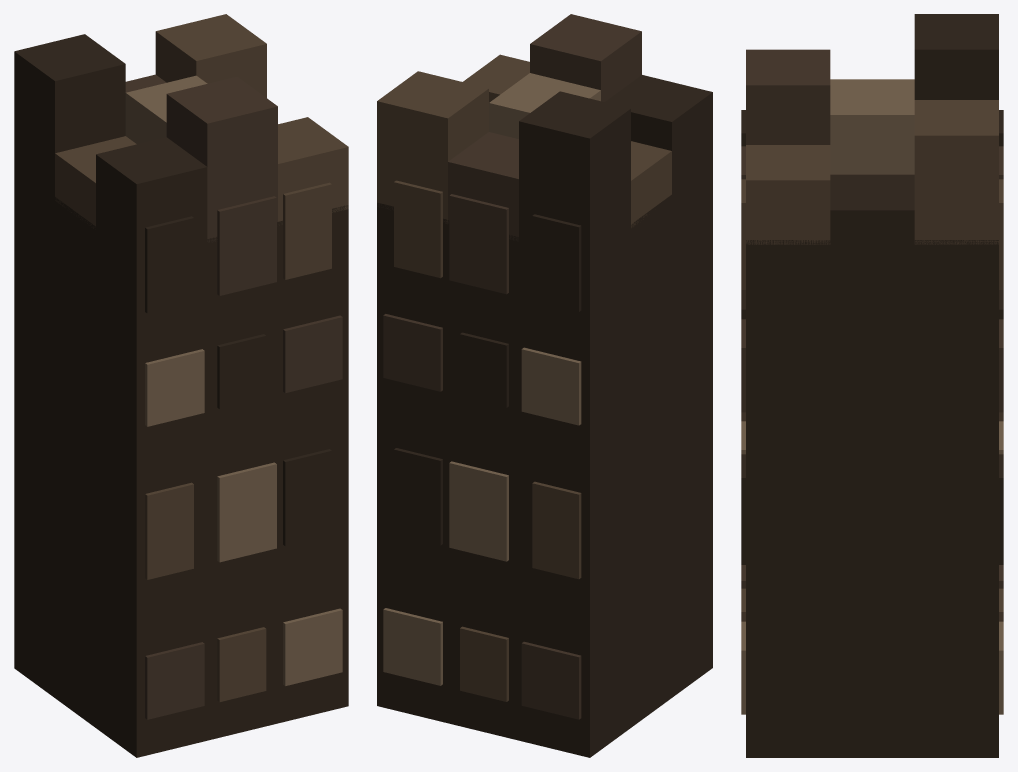
File: CMU3DKutjevoRockBorder.glb
The picture shows the model from 3 angles, left to right: view 1: azimuth 30°, elevation 25°; view 2: azimuth 150°, elevation 25°; view 3: azimuth 270°, elevation 25°; orthographic projection. The views are drawn at different scales.
Visible parts, largest first — view 1: solid rock core, broken crown 0-2, broken crown 1-0, broken crown 0-0, broken crown 2-2, fractured face -1-3-1, fractured face -1-1-1, broken crown 2-0, fractured face -1-3-0, fractured face -1-1-2, fractured face -1-1-0, fractured face -1-3-2 (+8 smaller); view 2: solid rock core, broken crown 0-2, broken crown 2-2, broken crown 0-0, broken crown 1-0, fractured face 1-1-1, fractured face 1-3-1, broken crown 1-2, fractured face 1-1-0, fractured face 1-3-0, fractured face 1-3-2, fractured face 1-1-2 (+9 smaller); view 3: solid rock core, broken crown 2-2, broken crown 2-0, broken crown 1-1, broken crown 1-0, broken crown 0-2, broken crown 2-1, fractured face -1-1-2, fractured face -1-3-2, fractured face 1-1-2, fractured face 1-3-2, fractured face -1-0-2 (+3 smaller).
Part boxes in pixels (x1,y1,x2,y2): solid rock core: (14,167,348,757); broken crown 0-2: (14,34,125,200); broken crown 1-0: (166,76,277,242); broken crown 0-0: (96,137,207,259); broken crown 2-2: (155,14,266,97); fractured face -1-3-1: (217,196,276,295); fractured face -1-1-1: (217,462,276,562); broken crown 2-0: (278,117,348,225); fractured face -1-3-0: (145,216,193,313); fractured face -1-1-2: (283,449,331,546); fractured face -1-1-0: (145,482,193,579); fractured face -1-3-2: (283,182,331,279); solid rock core: (377,166,712,757); broken crown 0-2: (519,91,630,258); broken crown 2-2: (377,71,488,223); broken crown 0-0: (605,75,712,193); broken crown 1-0: (530,14,641,101); fractured face 1-1-1: (449,461,508,561); fractured face 1-3-1: (449,194,508,294); broken crown 1-2: (448,132,518,241); fractured face 1-1-0: (532,481,581,579); fractured face 1-3-0: (532,214,581,311); fractured face 1-3-2: (394,180,442,278); fractured face 1-1-2: (394,448,442,545); solid rock core: (746,240,998,757); broken crown 2-2: (914,100,998,244); broken crown 2-0: (746,145,830,244); broken crown 1-1: (830,79,914,174); broken crown 1-0: (746,49,830,144); broken crown 0-2: (914,14,998,99); broken crown 2-1: (830,174,914,244); fractured face -1-1-2: (741,454,745,564); fractured face -1-3-2: (741,179,745,289); fractured face 1-1-2: (999,454,1003,564); fractured face 1-3-2: (999,179,1003,289); fractured face -1-0-2: (741,621,745,714).
Bounding box in the file's own units: 1 × 2.78 × 1.04.
